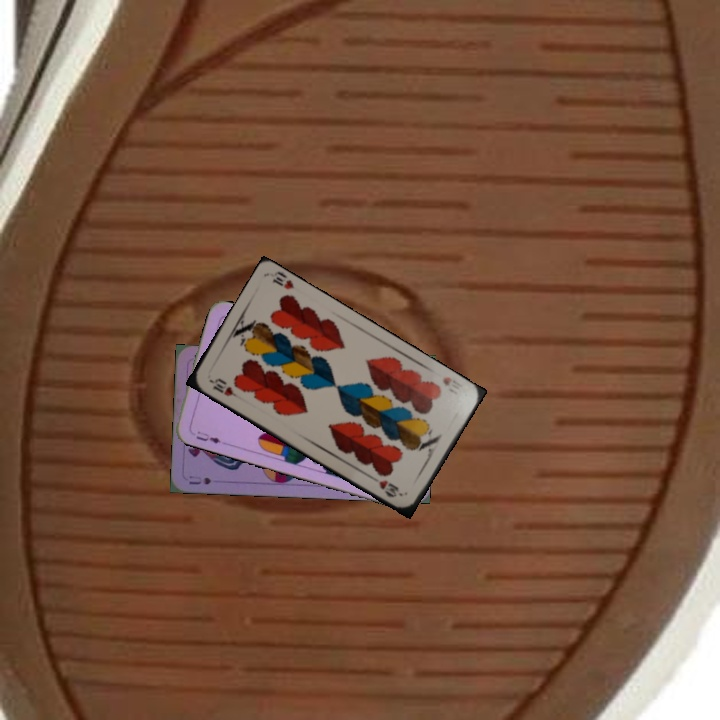EU: (187, 427, 223, 446)
H10: (206, 374, 243, 401), (439, 373, 461, 397)
SU: (185, 472, 213, 487)
